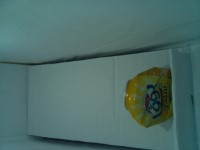kaleng: (124, 65, 174, 128)
